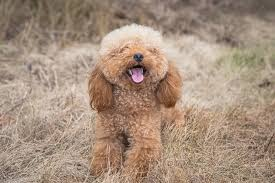Bulldog: (75, 16, 195, 177)
